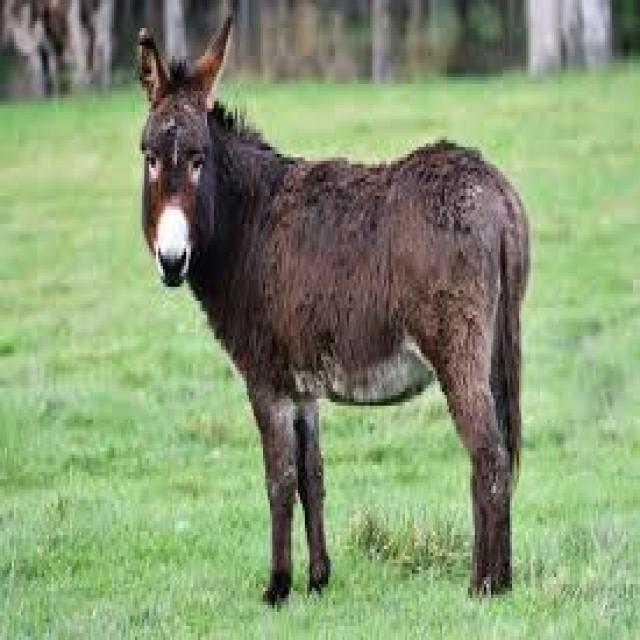Donkey: (93, 4, 585, 596)
